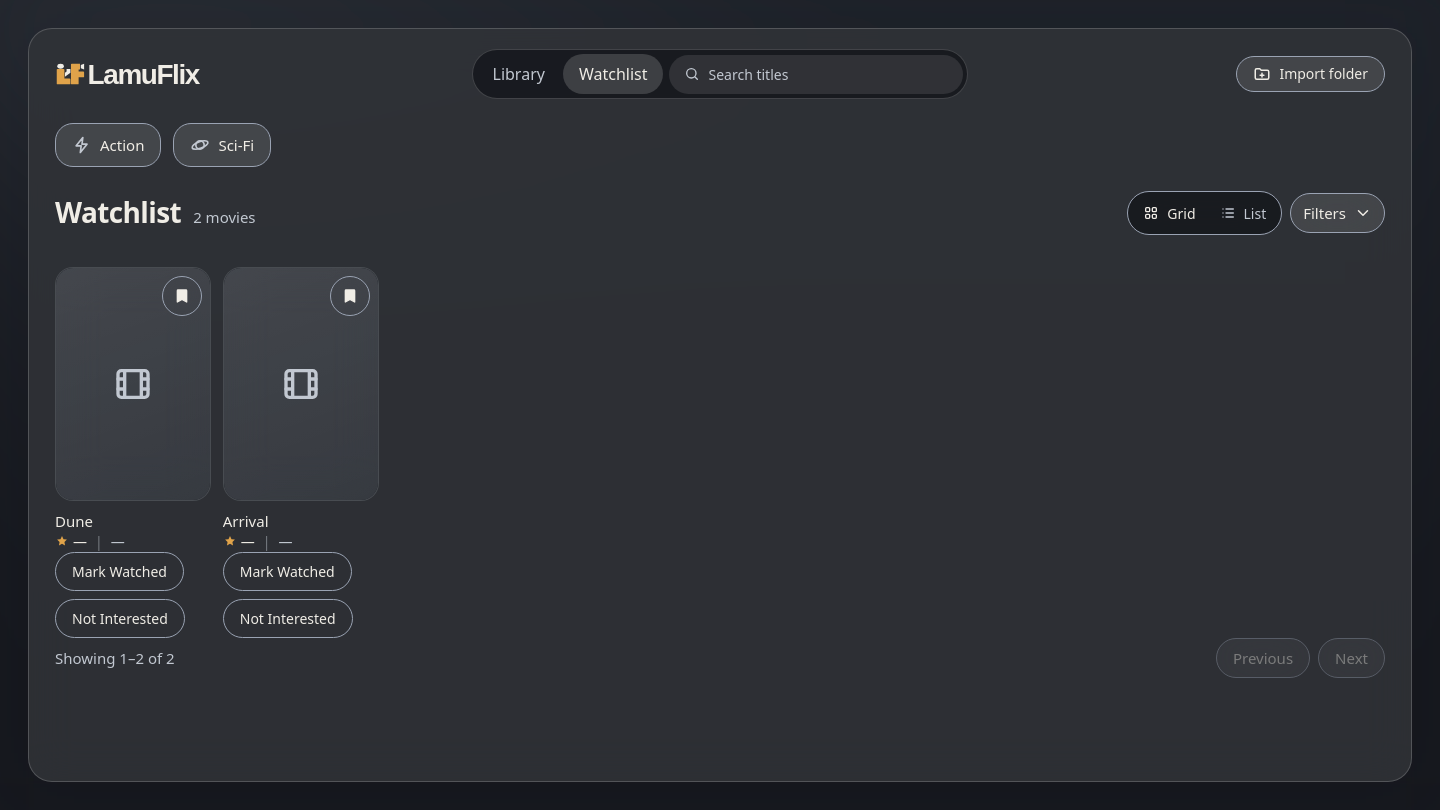
Test: watchlist filter-active removal reconciliation › keeps the card and rolls back with the inline error when removal fails
Check: the heading "Dune" is shown, box [55, 511, 93, 531]
Click the 1st button named "Remove from watchlist": [182, 296] box [162, 276, 202, 316]
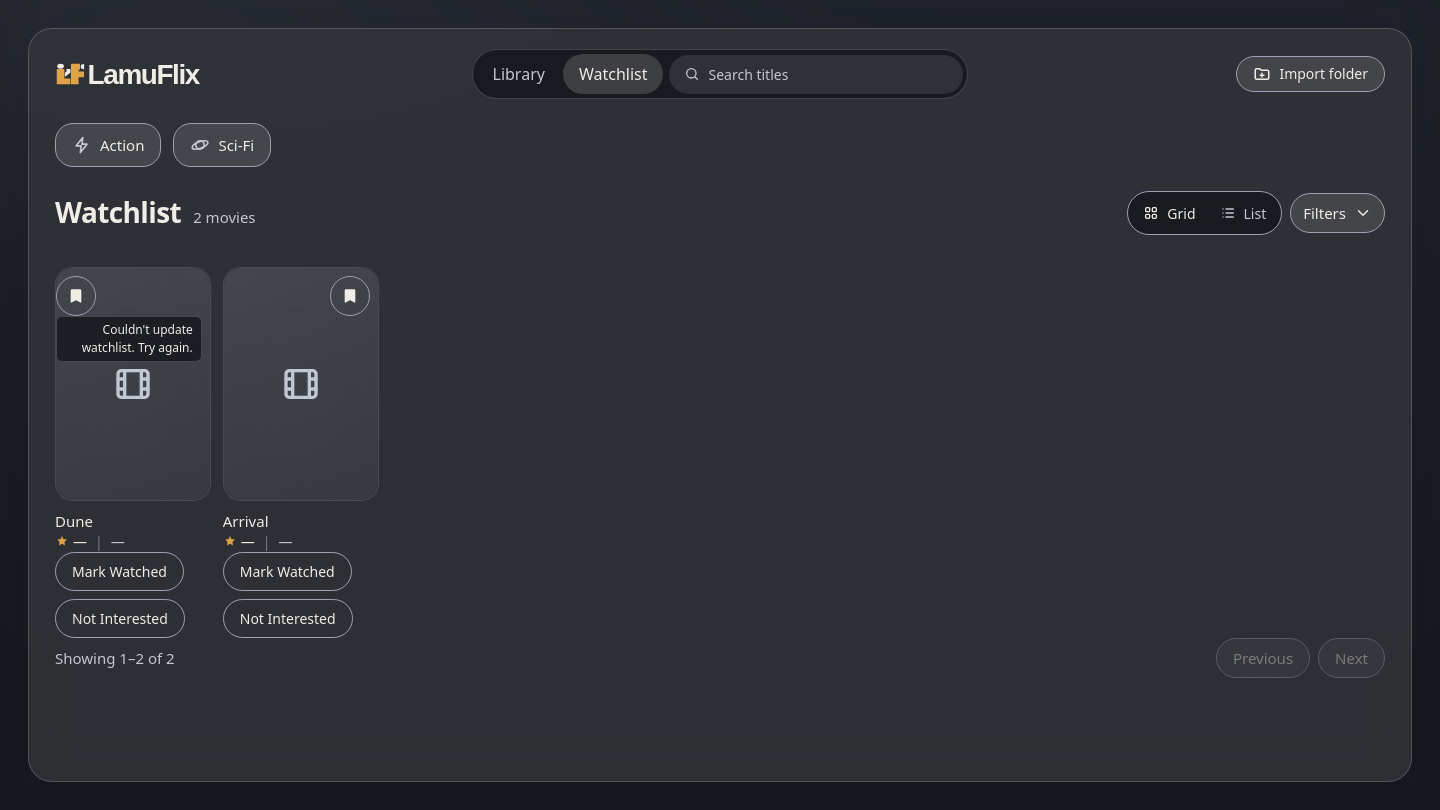
Check: the heading "Dune" is shown, box [55, 511, 93, 531]
Check: the text "Couldn't update watchlist. Try again." is shown, box [56, 316, 202, 362]
